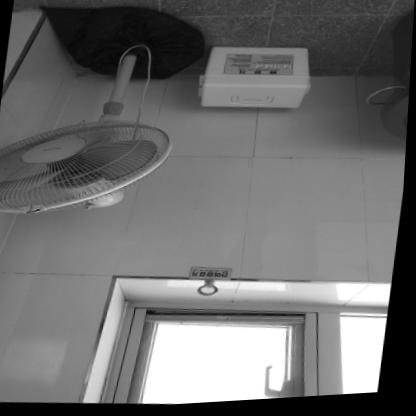DDL: (196, 44, 317, 118)
